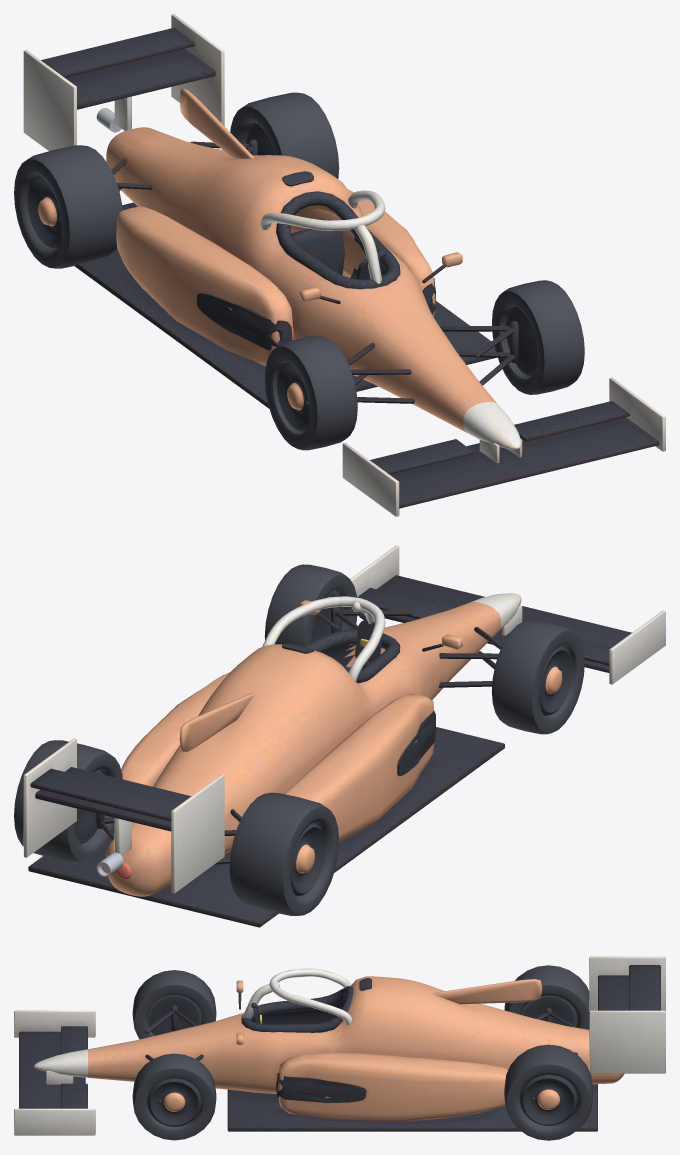
Rendered from racer.glb.
3 renders of one model, top to bottom at view 1: azimuth 30°, elevation 25°; view 2: azimuth 150°, elevation 25°; view 3: azimuth 270°, elevation 25°, orthographic. The views are drawn at different scales.
Parts seen in each view (by area): view 1: race-car_body, race-car_wheel_rear_r, race-car_wheel_front_r, race-car_wheel_front_l, race-car_wheel_rear_l; view 2: race-car_body, race-car_wheel_rear_r, race-car_wheel_front_r, race-car_wheel_front_l, race-car_wheel_rear_l, race-car_steering_wheel; view 3: race-car_body, race-car_wheel_rear_l, race-car_wheel_front_l, race-car_wheel_front_r, race-car_wheel_rear_r.
Part boxes in pixels (<box>): race-car_body: <box>23,14,665,516</box>; race-car_wheel_rear_r: <box>14,145,122,268</box>; race-car_wheel_front_r: <box>264,335,357,450</box>; race-car_wheel_front_l: <box>491,280,584,394</box>; race-car_wheel_rear_l: <box>230,92,339,178</box>; race-car_body: <box>23,545,665,927</box>; race-car_wheel_rear_r: <box>229,792,339,915</box>; race-car_wheel_front_r: <box>491,620,584,734</box>; race-car_wheel_front_l: <box>264,564,357,646</box>; race-car_wheel_rear_l: <box>14,740,122,861</box>; race-car_steering_wheel: <box>355,612,382,668</box>; race-car_body: <box>14,956,665,1135</box>; race-car_wheel_rear_l: <box>504,1044,592,1140</box>; race-car_wheel_front_l: <box>132,1053,216,1140</box>; race-car_wheel_front_r: <box>132,970,216,1039</box>; race-car_wheel_rear_r: <box>504,965,589,1029</box>.
Bounding box in the file's own units: 1.92 × 1.02 × 5.28.
8 materials, 1 textured.
